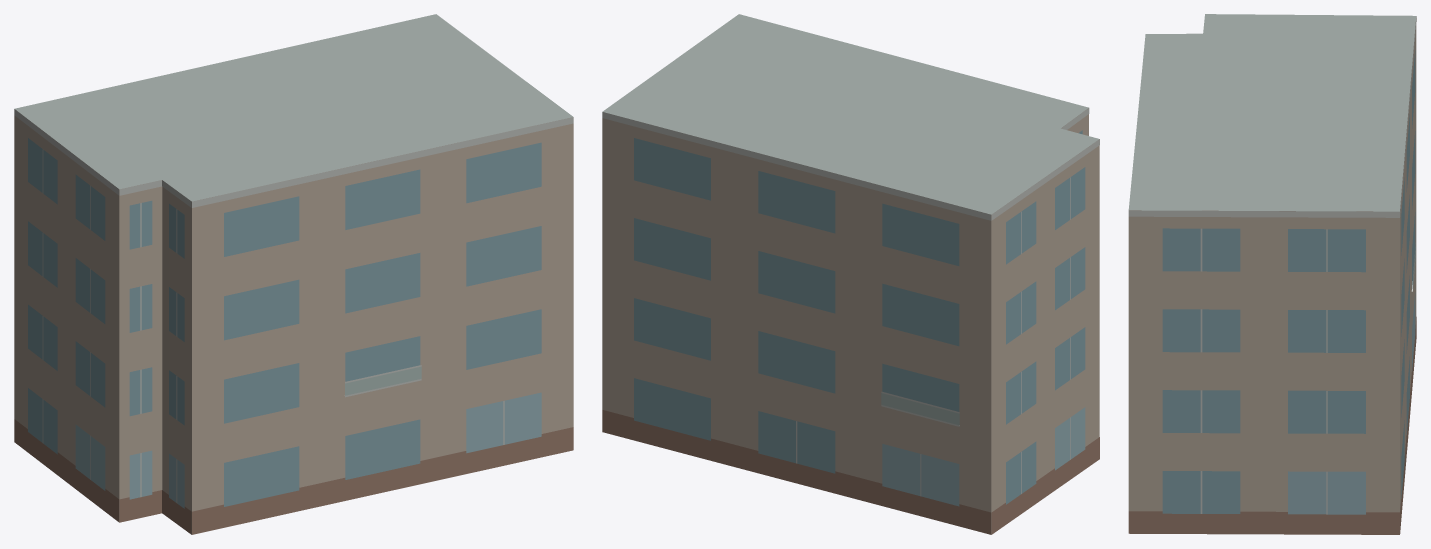
File: survey-upis-32817571.glb
The picture shows the model from 3 angles, left to right: view 1: azimuth 30°, elevation 25°; view 2: azimuth 150°, elevation 25°; view 3: azimuth 270°, elevation 25°; orthographic projection. The views are drawn at different scales.
Visible parts, largest first — view 1: survey-upis-32817571.tmp; view 2: survey-upis-32817571.tmp; view 3: survey-upis-32817571.tmp.
Boxes of the visible parts, x1=… form: survey-upis-32817571.tmp: x1=14, y1=14, x2=573, y2=534; survey-upis-32817571.tmp: x1=602, y1=14, x2=1099, y2=534; survey-upis-32817571.tmp: x1=1128, y1=14, x2=1416, y2=534.
Bounding box in the file's own units: 16.39 × 12.5 × 10.09.
